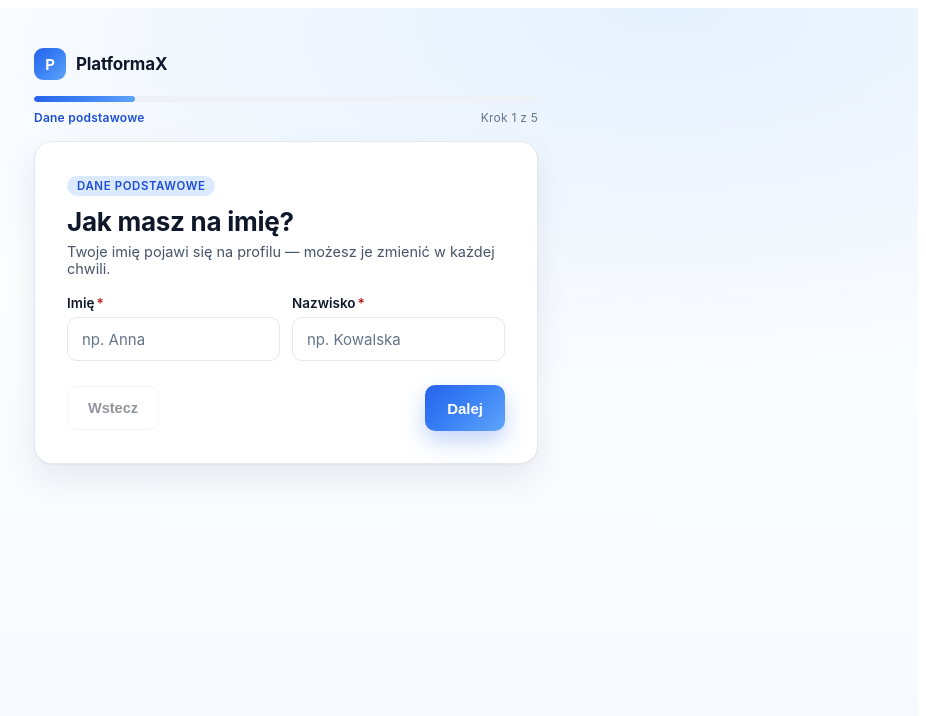
OnboardingFlow › step 3 requires phone + checkbox confirmation
Type "Anna" into the field labelled "Imię*".
click(174, 339); type("Anna")  # box [67,317,280,361]
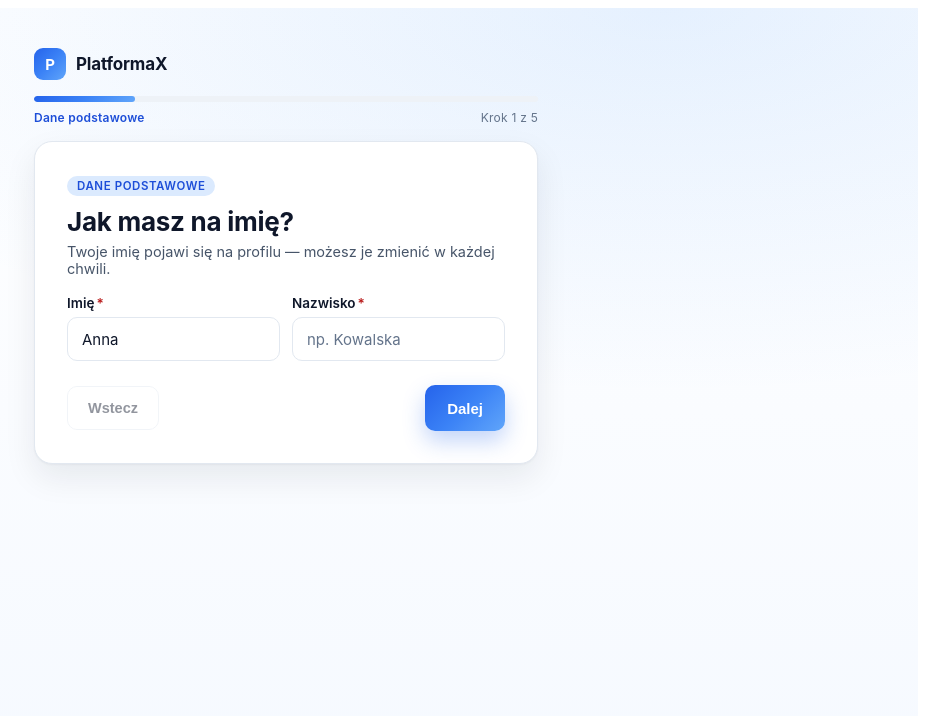
Type "Kowalska" into the field labelled "Nazwisko*".
click(398, 339); type("Kowalska")  # box [292,317,505,361]
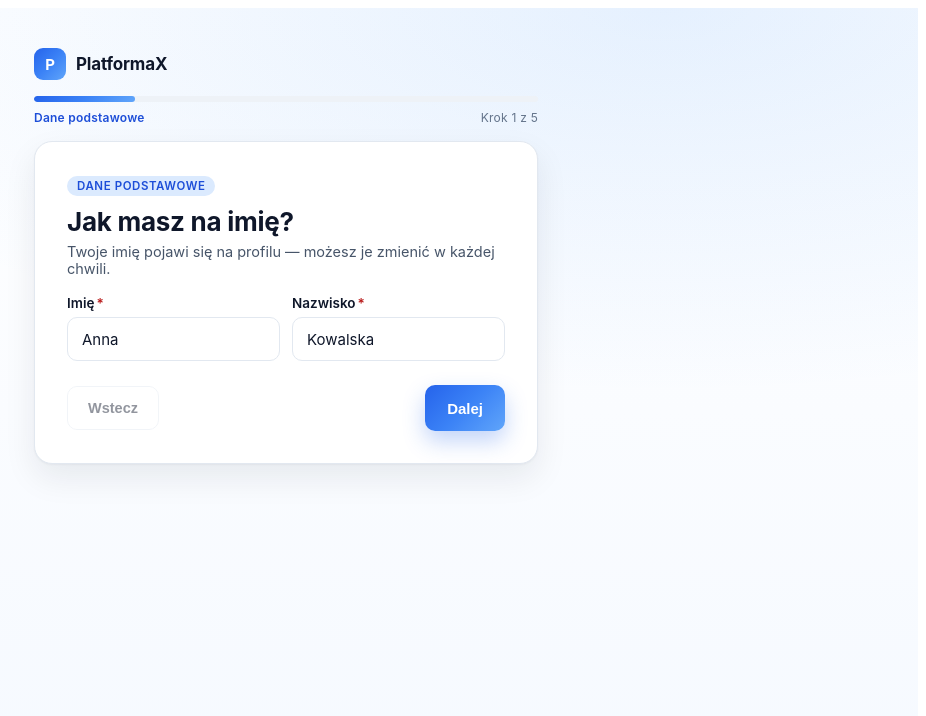
Click the button "Dalej".
click(465, 408)  # box [425,385,505,431]
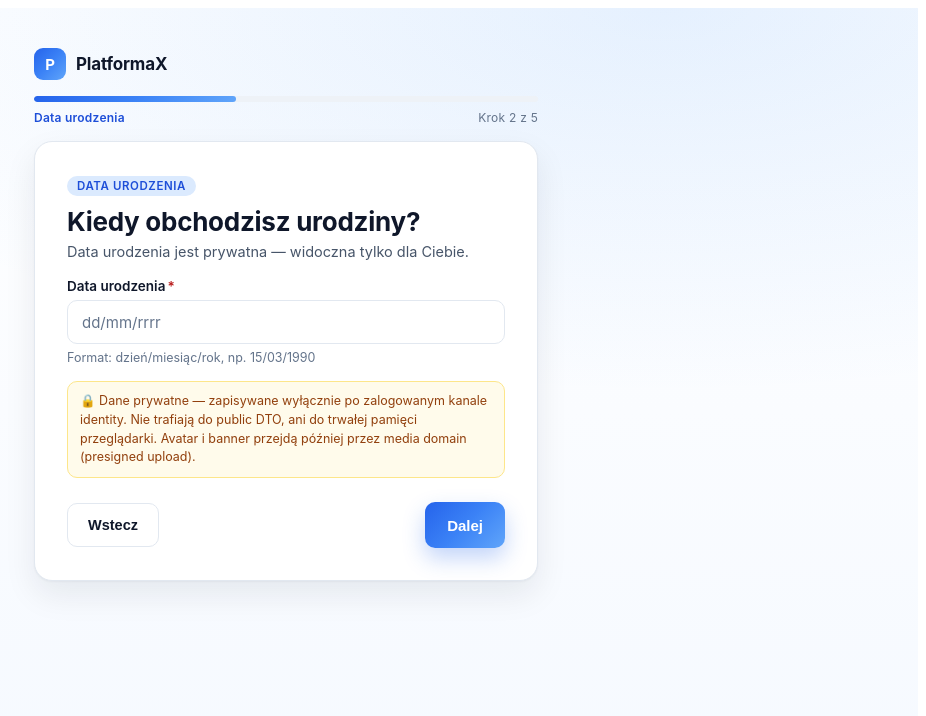
Type "15/03/1990" into the field labelled "Data urodzenia*".
click(286, 322); type("15/03/1990")  # box [67,300,505,344]
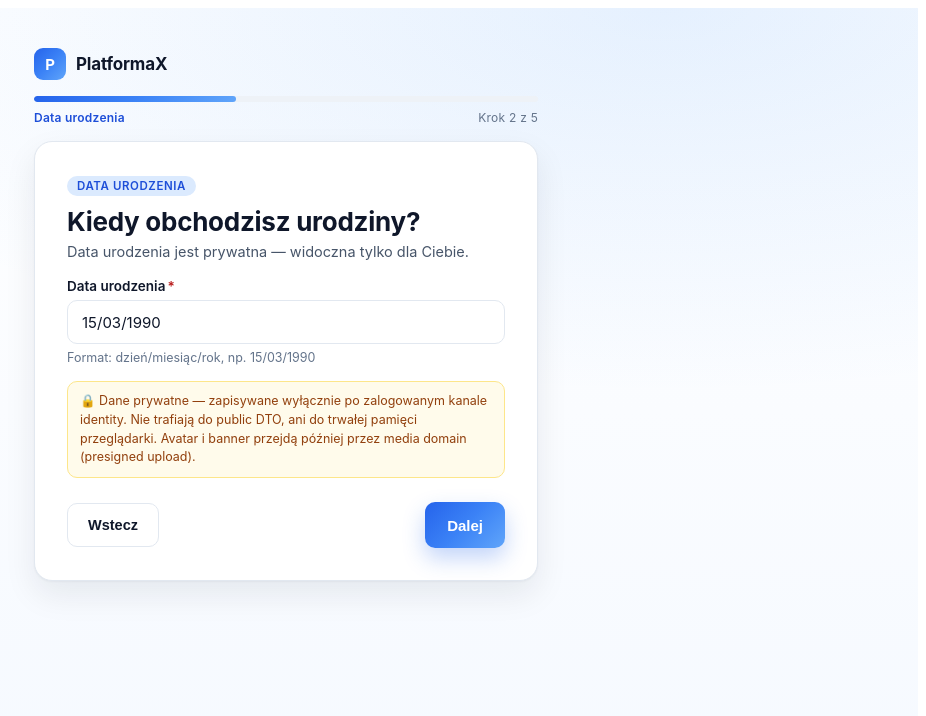
Click the button "Dalej".
click(465, 525)  # box [425,502,505,548]
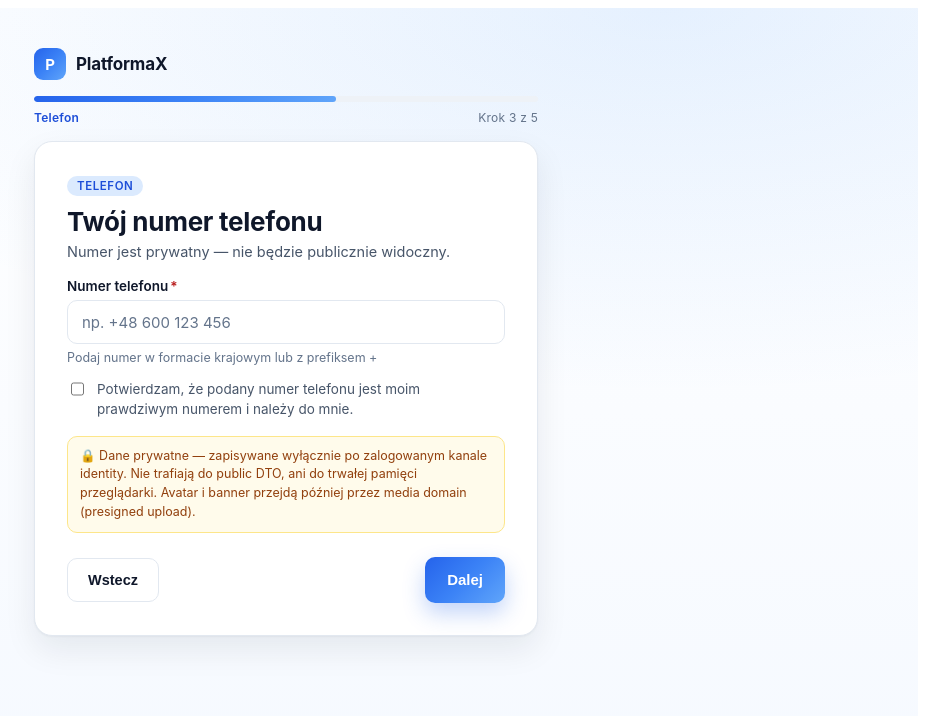
Click the button "Dalej".
click(465, 580)  # box [425,557,505,603]
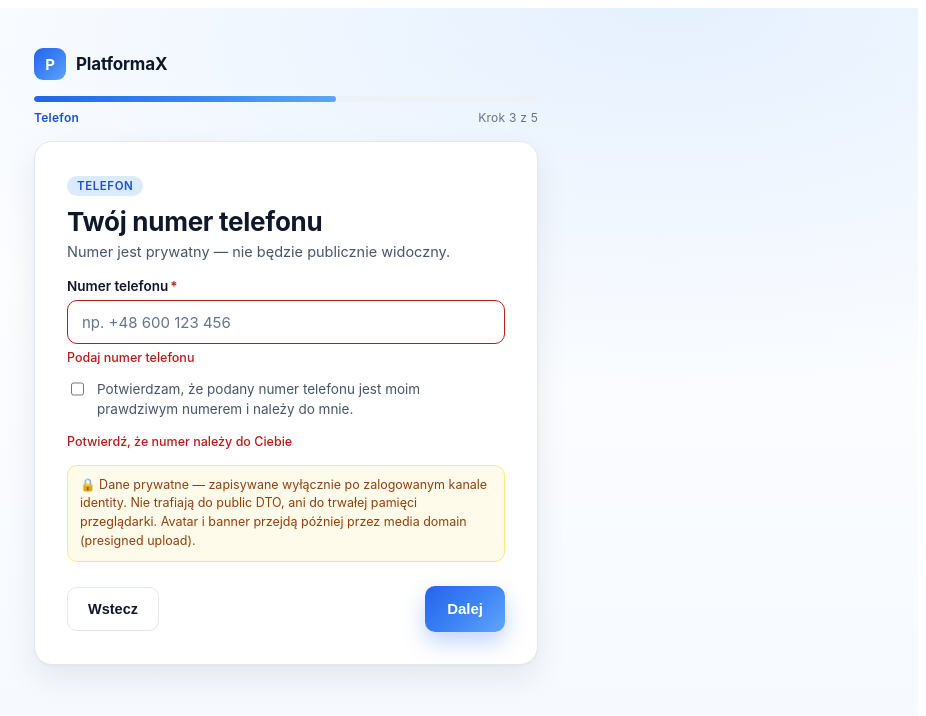
Check: the text "Podaj numer telefonu" is shown, box [67,350,194,365]
Check: the text "Potwierdź, że numer należy do Ciebie" is shown, box [67,434,292,449]
